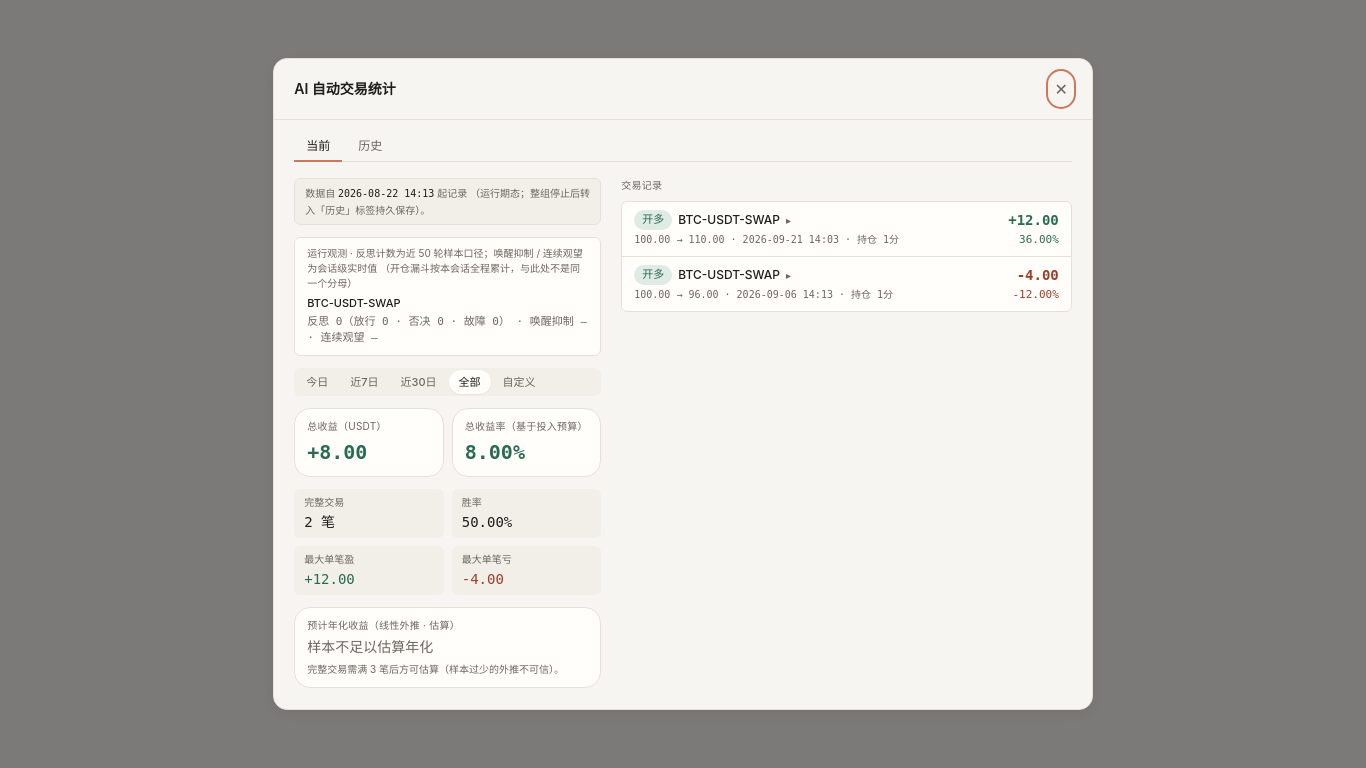
Test case: AiTradeStatsPanel › aggregates the current group and decouples floating pnl from the time window
The width and height of the screenshot is (1366, 768).
Expected: the text "+8.00" is shown, top-left (307, 440), bottom-right (367, 464)
Click the button "近7日": (364, 382) top-left (340, 370), bottom-right (388, 394)
(page scrolled)
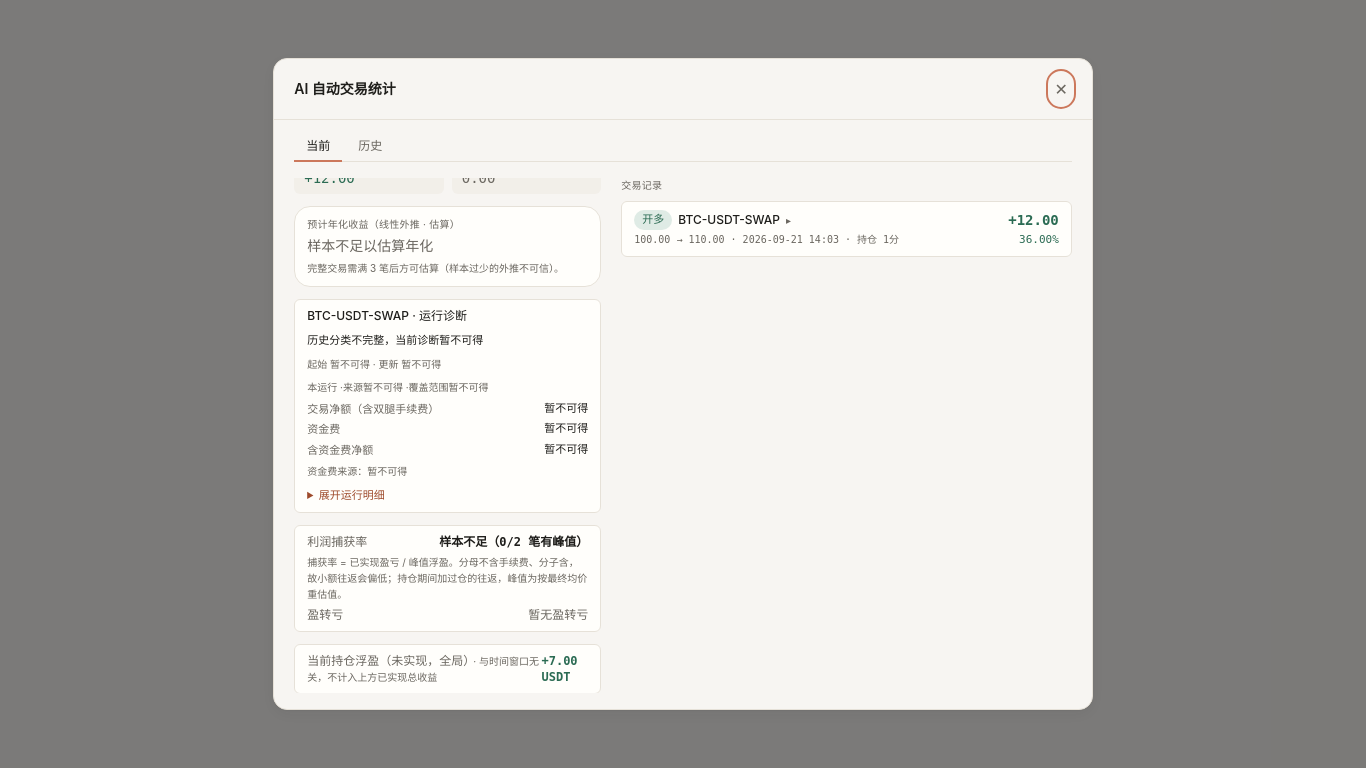
Now the text "+8.00" is gone
Now the text "+7.00 USDT" is shown, box top-left (542, 654), bottom-right (578, 684)
